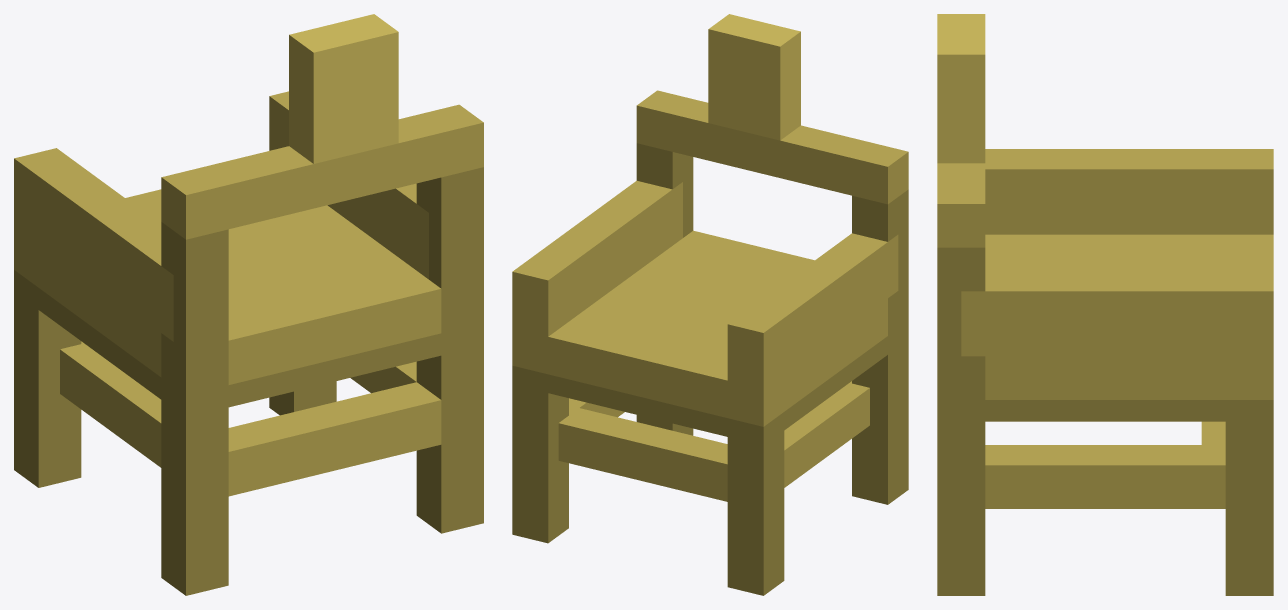
File: trono_01.glb
3 renders of one model, left to right at view 1: azimuth 30°, elevation 25°; view 2: azimuth 150°, elevation 25°; view 3: azimuth 270°, elevation 25°, orthographic. The views are drawn at different scales.
Parts seen in each view (by area): view 1: trono; view 2: trono; view 3: trono.
Part boxes in pixels (x1,y1,x2,y2): trono: (14,14,483,595); trono: (512,14,908,595); trono: (937,14,1273,595).
Bounding box in the file's own units: 1 × 1.64 × 1.
